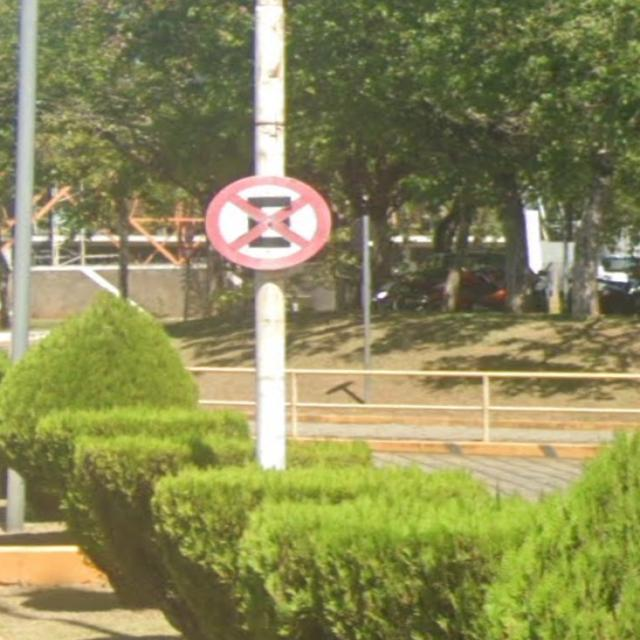no parking: (181, 153, 356, 285)
